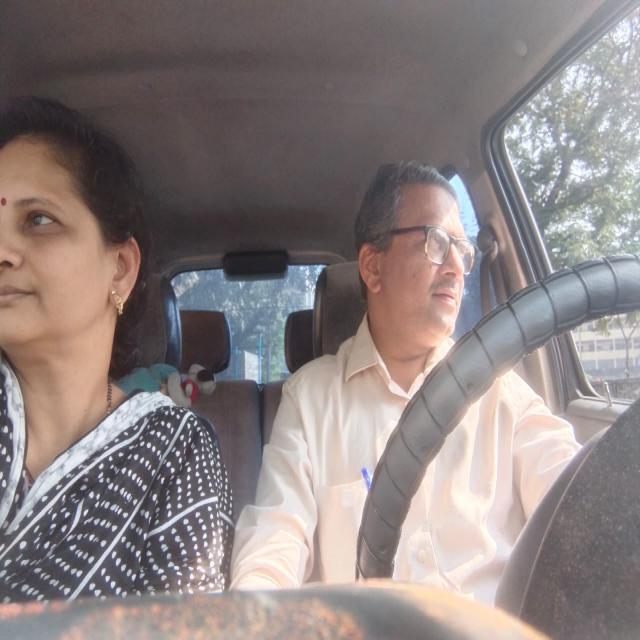LeftRight: (355, 162, 472, 341)
person: (0, 102, 154, 356)
